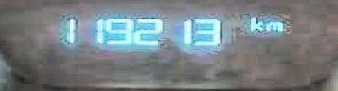1: (58, 15, 80, 44), (171, 18, 191, 44), (84, 16, 102, 43)
2: (131, 16, 162, 43)
3: (193, 17, 220, 45)
9: (102, 16, 131, 43)
X: (246, 15, 262, 31), (264, 20, 282, 31)
